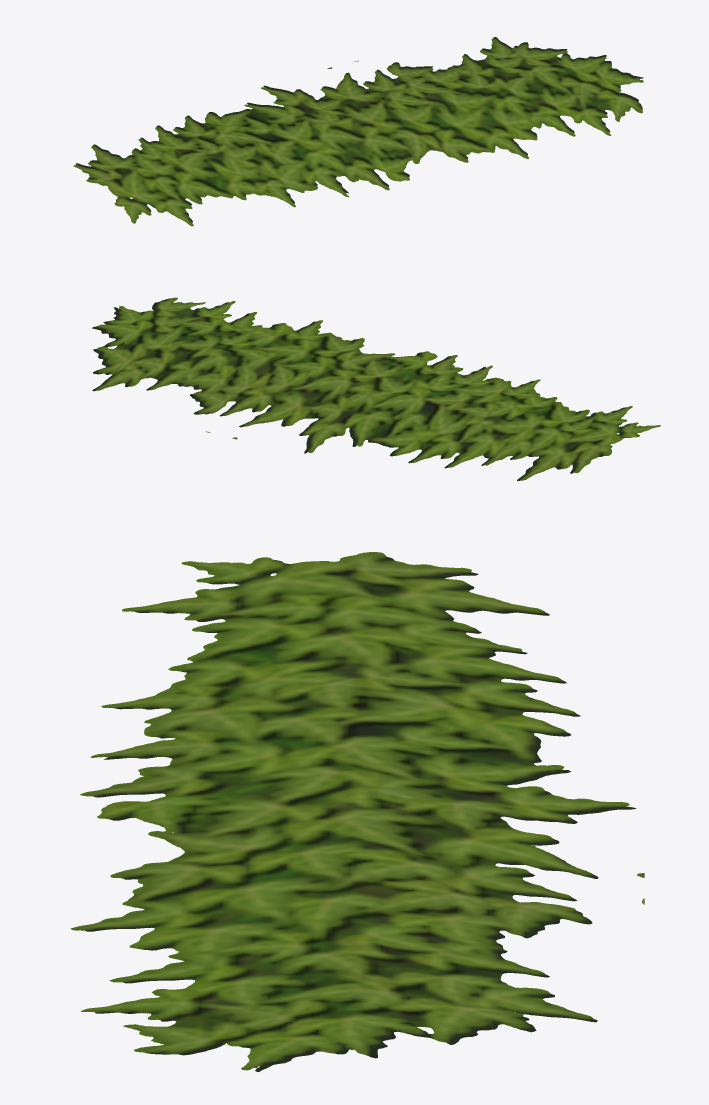
Rendered from fanasty_mod_building_ivy.fbx.
3 renders of one model, top to bottom at view 1: azimuth 30°, elevation 25°; view 2: azimuth 150°, elevation 25°; view 3: azimuth 270°, elevation 25°, orthographic. The views are drawn at different scales.
Visible parts, largest first — view 1: building_ivy; view 2: building_ivy; view 3: building_ivy.
Part boxes in pixels (box(x1,y1,x2,y2)): building_ivy: box(73, 37, 643, 226); building_ivy: box(92, 297, 660, 481); building_ivy: box(70, 552, 644, 1071).
Bounding box in the file's own units: 2.67 × 0.0558 × 1.25.
